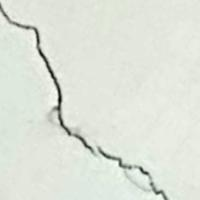crack: (1, 0, 169, 199)
